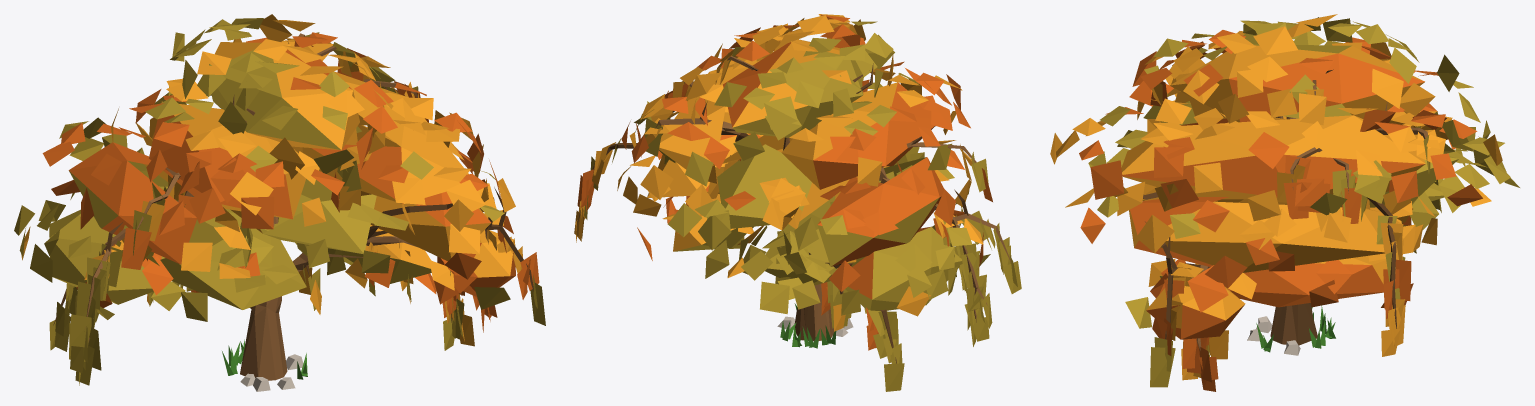
The model's file is elm_2_autumn.glb.
3 renders of one model, left to right at view 1: azimuth 30°, elevation 25°; view 2: azimuth 150°, elevation 25°; view 3: azimuth 270°, elevation 25°, orthographic. The views are drawn at different scales.
Parts seen in each view (by area): view 1: elm_2_autumn; view 2: elm_2_autumn; view 3: elm_2_autumn.
Boxes of the visible parts, bbox=[...] form: elm_2_autumn: bbox=[14, 14, 545, 391]; elm_2_autumn: bbox=[574, 14, 1021, 391]; elm_2_autumn: bbox=[1050, 14, 1519, 391].
Size of the model in its own units: 8.64 by 6.28 by 8.38.
